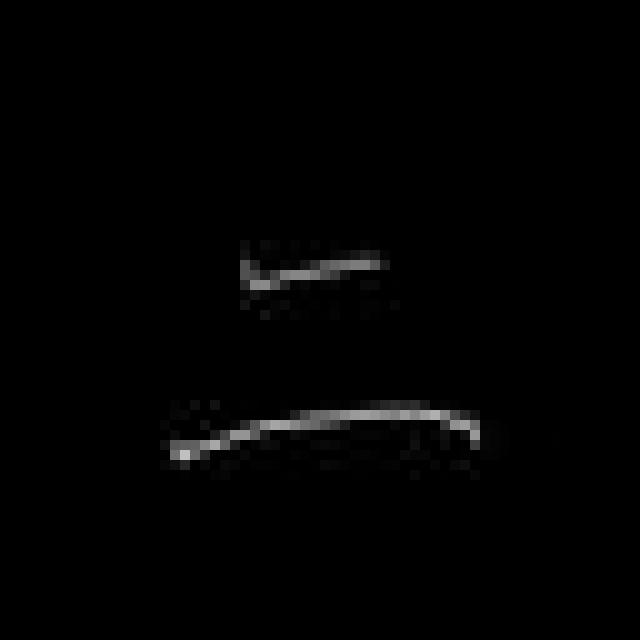2 -two-: (155, 238, 492, 477)
